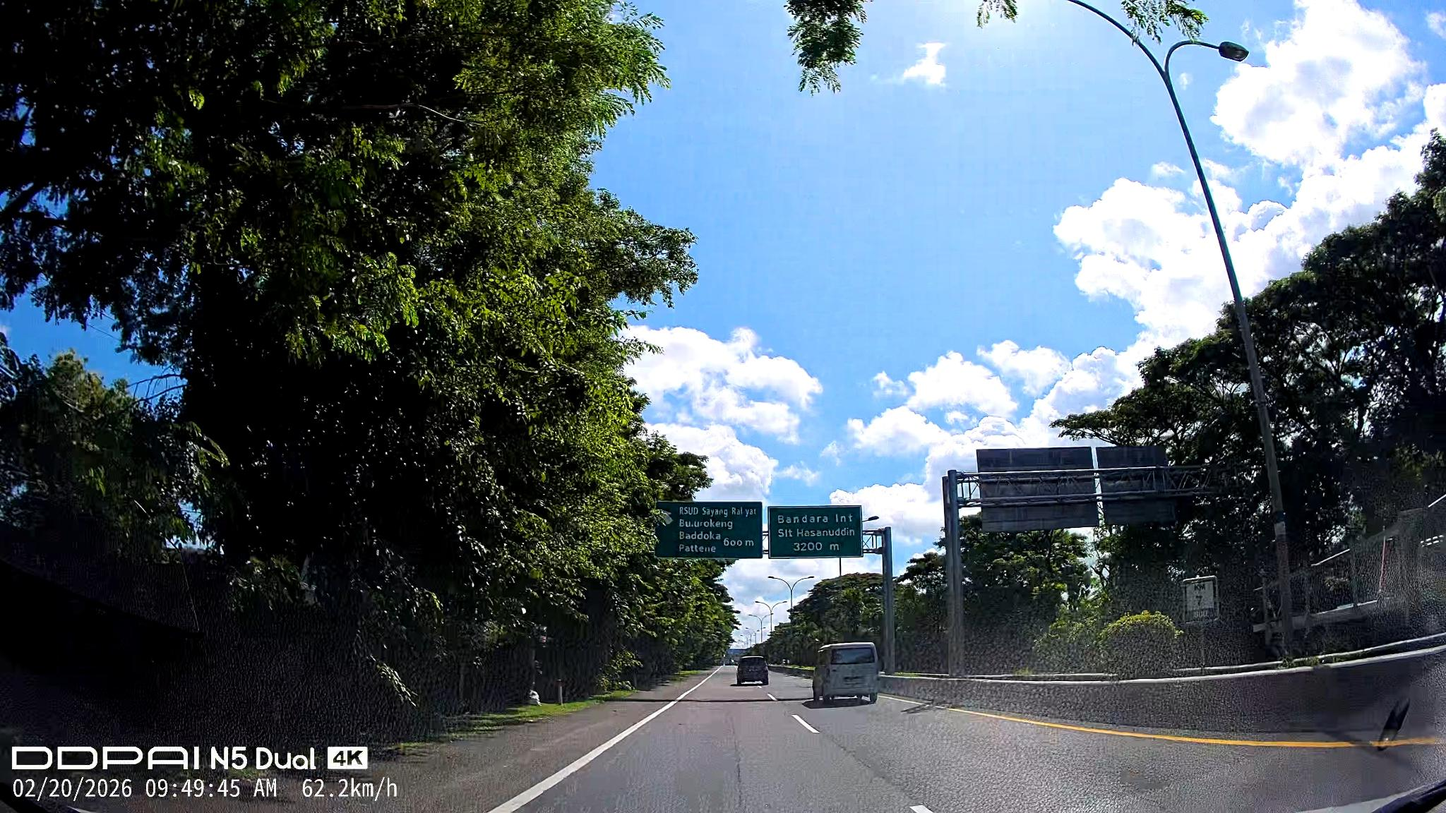rambu_teks: (654, 501, 764, 560), (767, 505, 864, 560)
